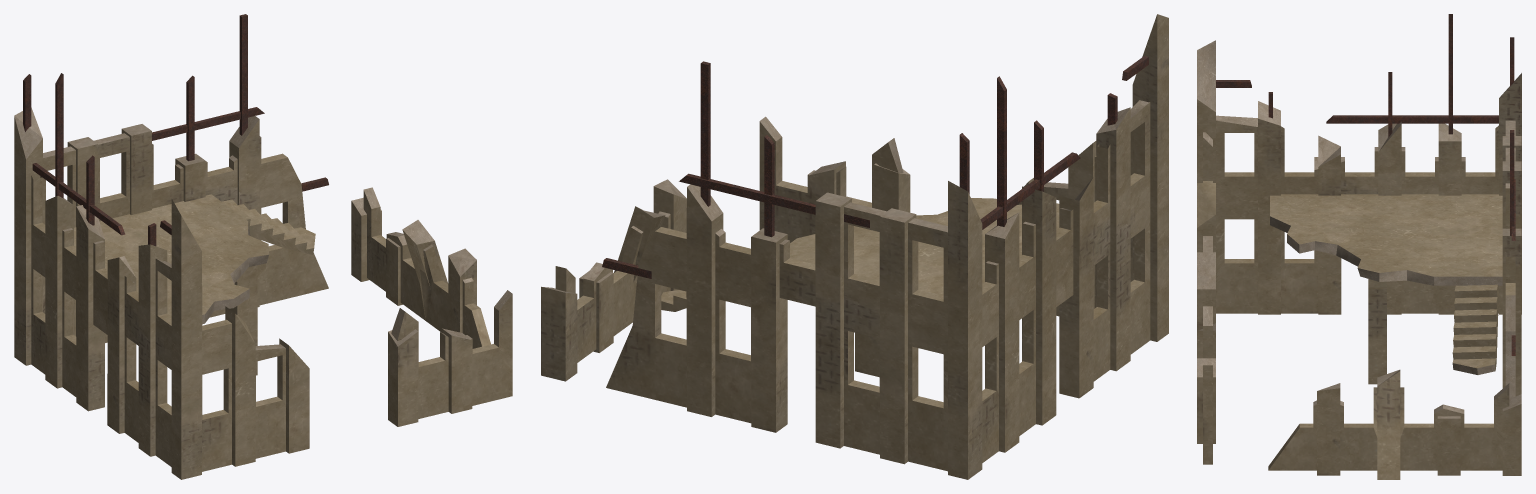
File: SM_Ruin_02.FBX
3 views of the same model, side by side, from view 1: azimuth 30°, elevation 25°; view 2: azimuth 150°, elevation 25°; view 3: azimuth 270°, elevation 25° (orthographic). The views are drawn at different scales.
Visible parts, largest first — view 1: SM_Ruin_02; view 2: SM_Ruin_02; view 3: SM_Ruin_02.
Boxes of the visible parts, x1,y1,x2,y2 form: SM_Ruin_02: (14, 14, 512, 479); SM_Ruin_02: (541, 14, 1168, 479); SM_Ruin_02: (1197, 14, 1521, 479).
Size of the model in its own units: 625 by 489 by 502.
